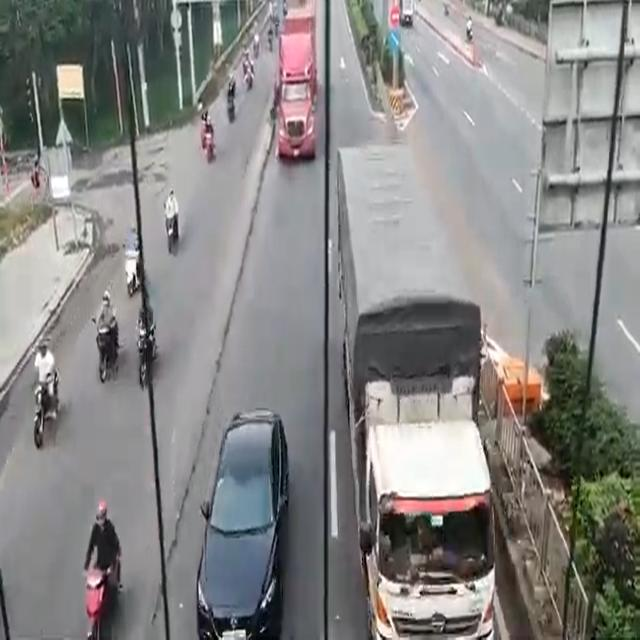car: (211, 409, 281, 638)
motorbike: (81, 548, 116, 640), (30, 370, 59, 450), (94, 314, 120, 380), (136, 318, 156, 392), (123, 244, 140, 298), (165, 204, 179, 252)
truck: (334, 145, 499, 638), (279, 6, 319, 165)
